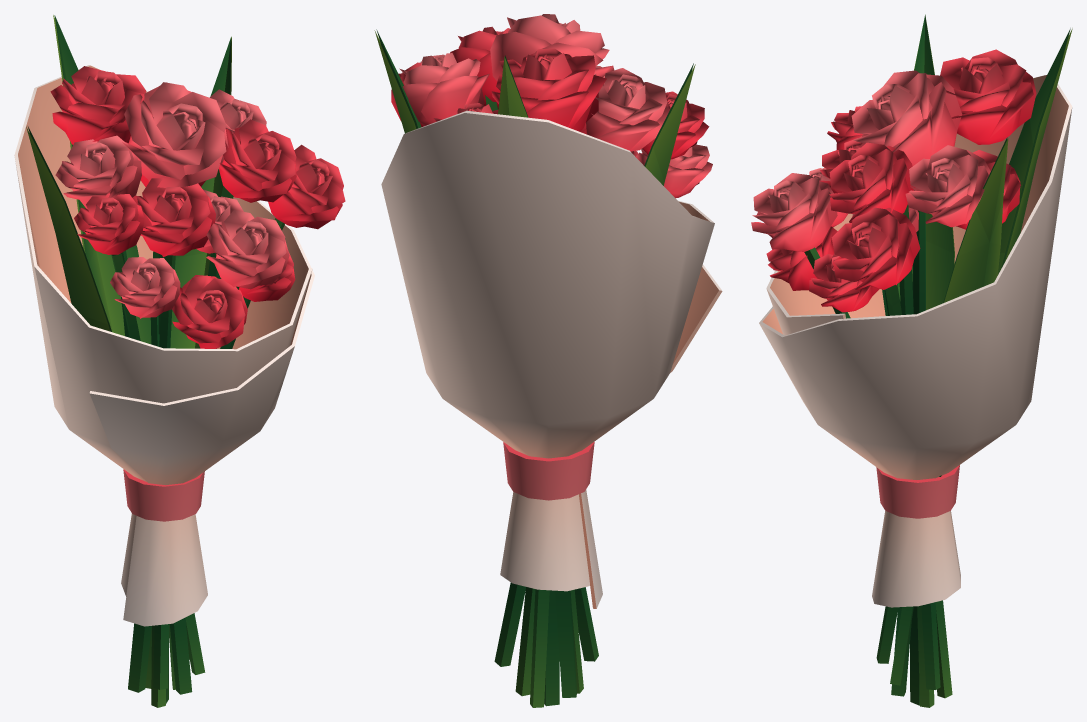
File: CRvalentines_bouquet_001.FBX
The picture shows the model from 3 angles, left to right: view 1: azimuth 30°, elevation 25°; view 2: azimuth 150°, elevation 25°; view 3: azimuth 270°, elevation 25°; orthographic projection. The views are drawn at different scales.
Parts seen in each view (by area): view 1: CRvalentines_bouquet_001; view 2: CRvalentines_bouquet_001; view 3: CRvalentines_bouquet_001.
Boxes of the visible parts, x1=… form: CRvalentines_bouquet_001: x1=14, y1=15, x2=345, y2=707; CRvalentines_bouquet_001: x1=374, y1=14, x2=722, y2=707; CRvalentines_bouquet_001: x1=751, y1=14, x2=1072, y2=707.
Bounding box in the file's own units: 19.17 × 40.25 × 17.84.
